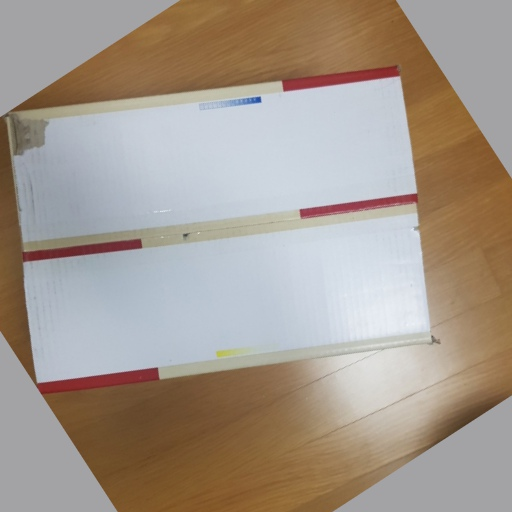Paper_0: (2, 62, 452, 397)
